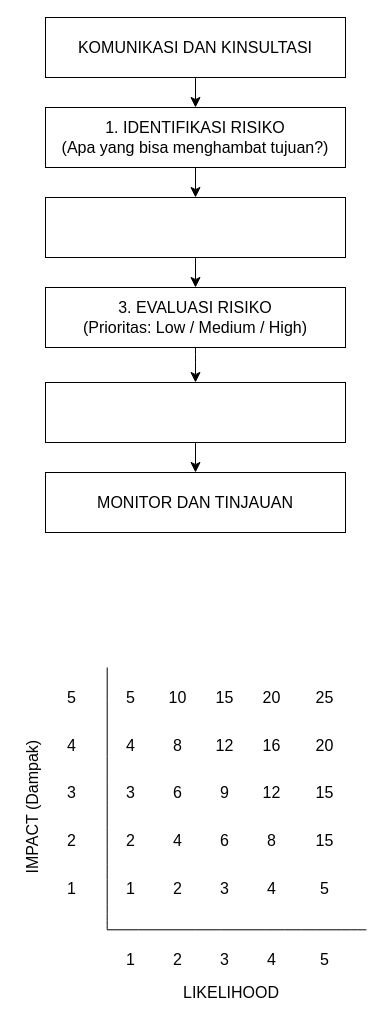
This 385x1025 diagram has some shape labels left out. The centre of each missing label's shape, as x and y in pixels:
2. ANALISIS RISIKO (Likelihood x Impact): the point at 195,227
4. PERLAKUAN RISIKO (Treat / Transfer / Tolerate / Terminate): the point at 195,412
